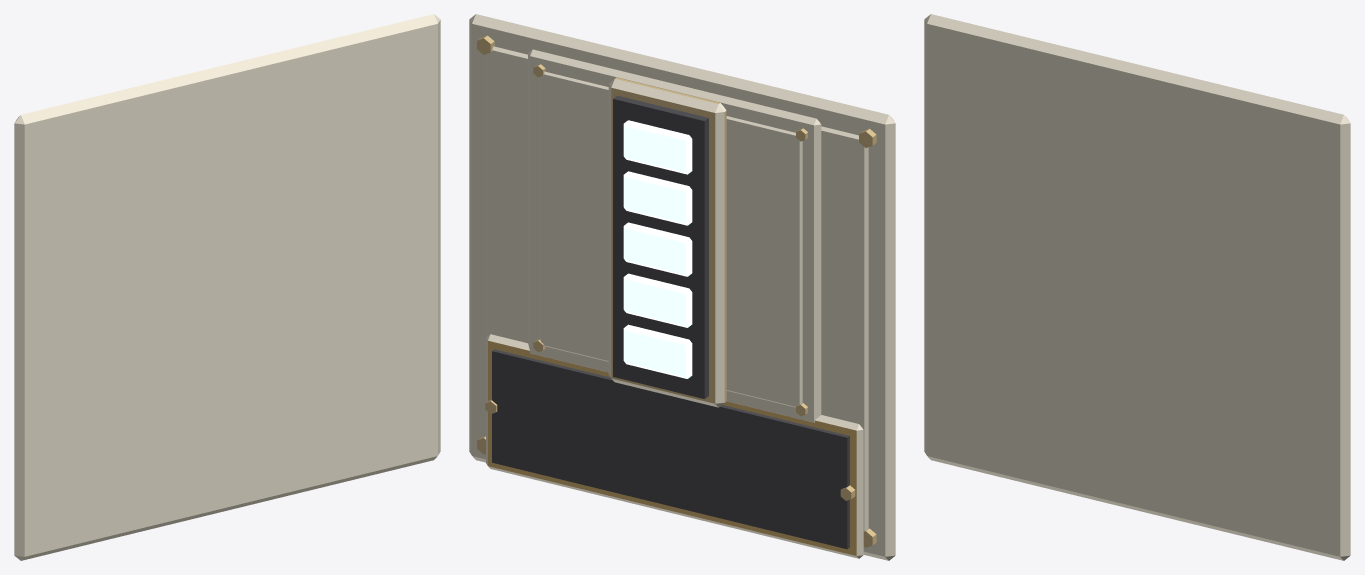
File: Disp_Bar.fbx
3 renders of one model, left to right at view 1: azimuth 30°, elevation 25°; view 2: azimuth 150°, elevation 25°; view 3: azimuth 330°, elevation 25°, orthographic.
Parts seen in each view (by area): view 1: Disp_Bar; view 2: Disp_Bar, Seg0, Seg3, Seg1, Seg2, Seg4; view 3: Disp_Bar.
Boxes of the visible parts, bbox=[...] form: Disp_Bar: bbox=[14, 14, 440, 560]; Disp_Bar: bbox=[469, 14, 895, 560]; Seg0: bbox=[623, 324, 692, 378]; Seg3: bbox=[623, 171, 692, 225]; Seg1: bbox=[623, 273, 692, 327]; Seg2: bbox=[623, 222, 692, 276]; Seg4: bbox=[623, 120, 692, 174]; Disp_Bar: bbox=[924, 14, 1350, 560].
Bounding box in the file's own units: 0.96 × 0.96 × 0.1209.
